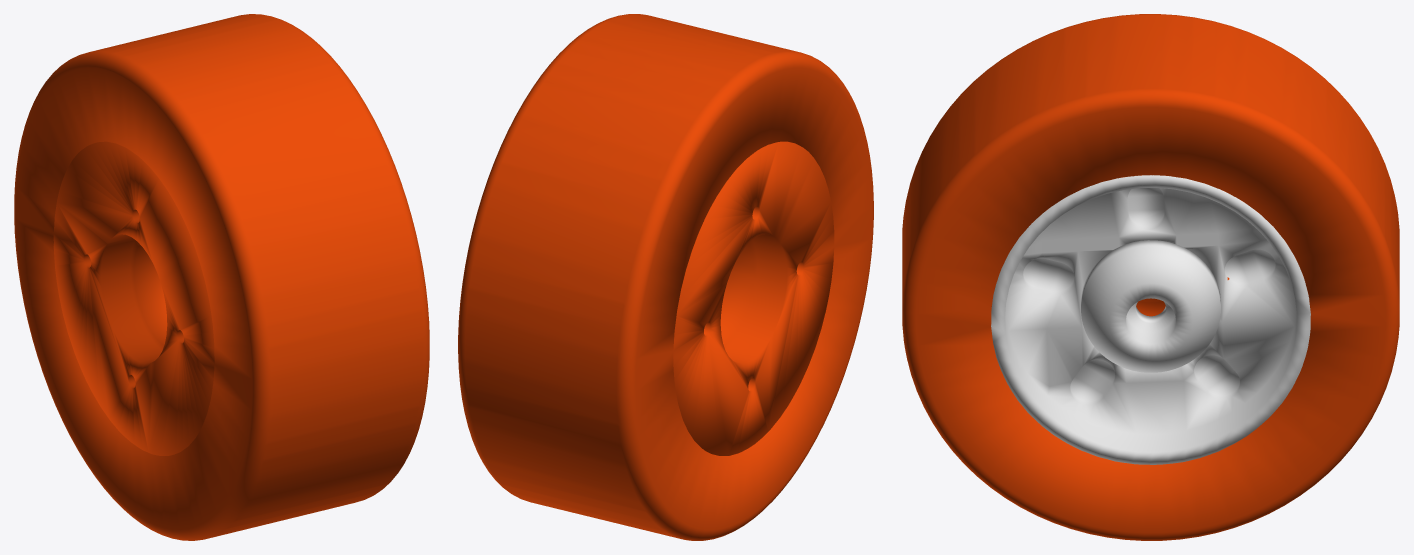
File: left_rear_wheel.dae
3 renders of one model, left to right at view 1: azimuth 30°, elevation 25°; view 2: azimuth 150°, elevation 25°; view 3: azimuth 270°, elevation 25°, orthographic.
Visible parts, largest first — view 1: left_rear_wheel; view 2: left_rear_wheel; view 3: left_rear_wheel.
Boxes of the visible parts, box(x1,y1,x2,y2) form: left_rear_wheel: box(14, 14, 429, 540); left_rear_wheel: box(458, 14, 873, 540); left_rear_wheel: box(902, 14, 1399, 540).
Size of the model in its own units: 0.0716 by 0.1743 by 0.1743.
